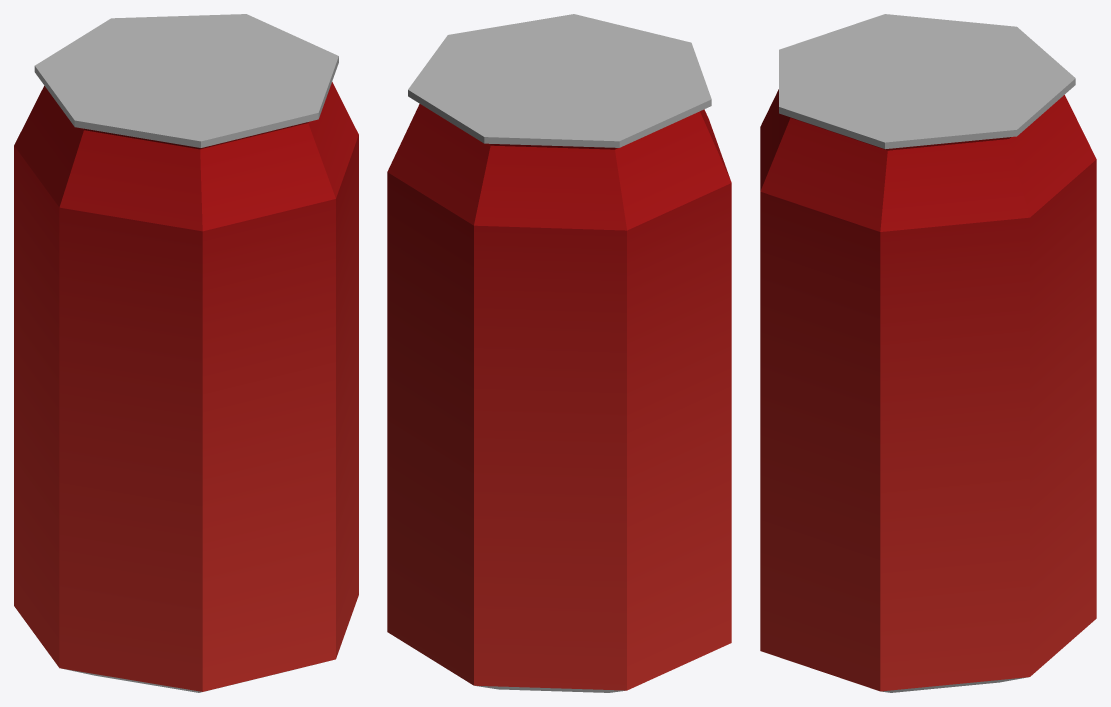
Rendered from cola.fbx.
3 views of the same model, side by side, from view 1: azimuth 30°, elevation 25°; view 2: azimuth 150°, elevation 25°; view 3: azimuth 270°, elevation 25° (orthographic).
Parts seen in each view (by area): view 1: Circle.003; view 2: Circle.003; view 3: Circle.003.
Part boxes in pixels (left/top/right/bottom): Circle.003: left=14, top=14, right=358, bottom=692; Circle.003: left=387, top=14, right=731, bottom=692; Circle.003: left=760, top=14, right=1096, bottom=692.
Bounding box in the file's own units: 19.71 × 35.44 × 19.22.
